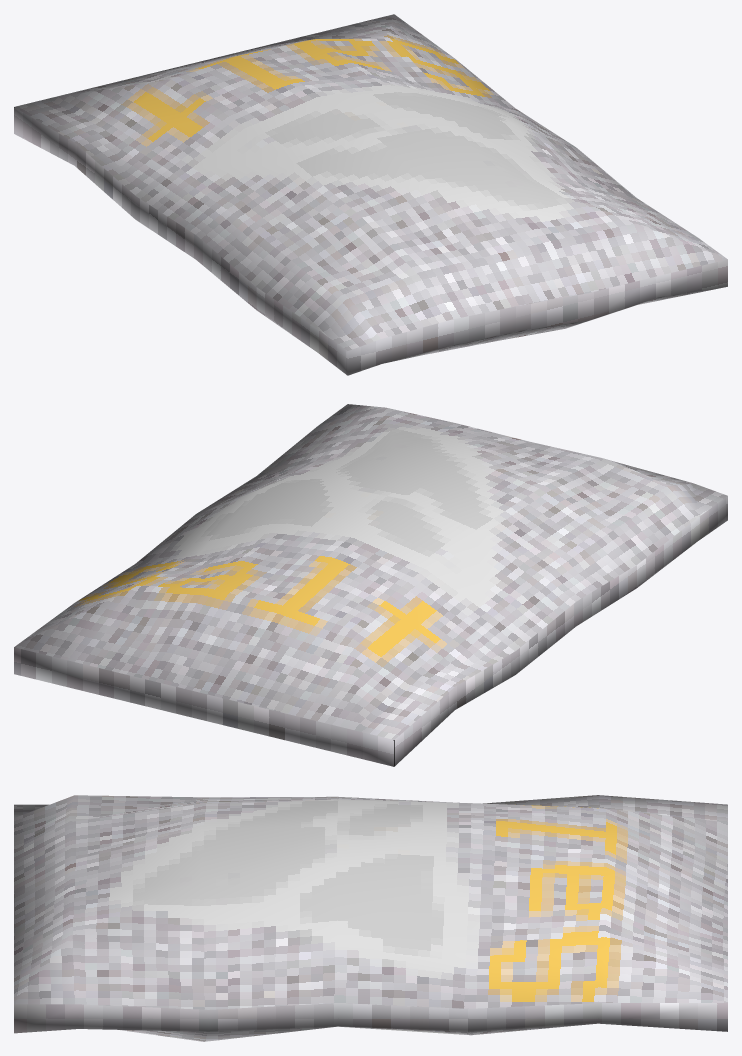
Rendered from salt_bag.glb.
3 views of the same model, one above another, from view 1: azimuth 30°, elevation 25°; view 2: azimuth 150°, elevation 25°; view 3: azimuth 270°, elevation 25° (orthographic). The views are drawn at different scales.
Parts seen in each view (by area): view 1: Plane; view 2: Plane; view 3: Plane.
Boxes of the visible parts, <box> form: Plane: <box>14,14,727,375</box>; Plane: <box>14,404,727,766</box>; Plane: <box>14,795,727,1041</box>.
Size of the model in its own units: 0.5475 by 0.2159 by 0.8321.
Materials: 1 (1 with a texture image).
